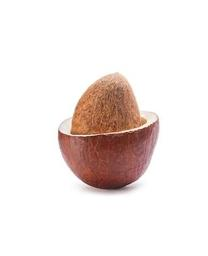coconut: (57, 73, 161, 191)
